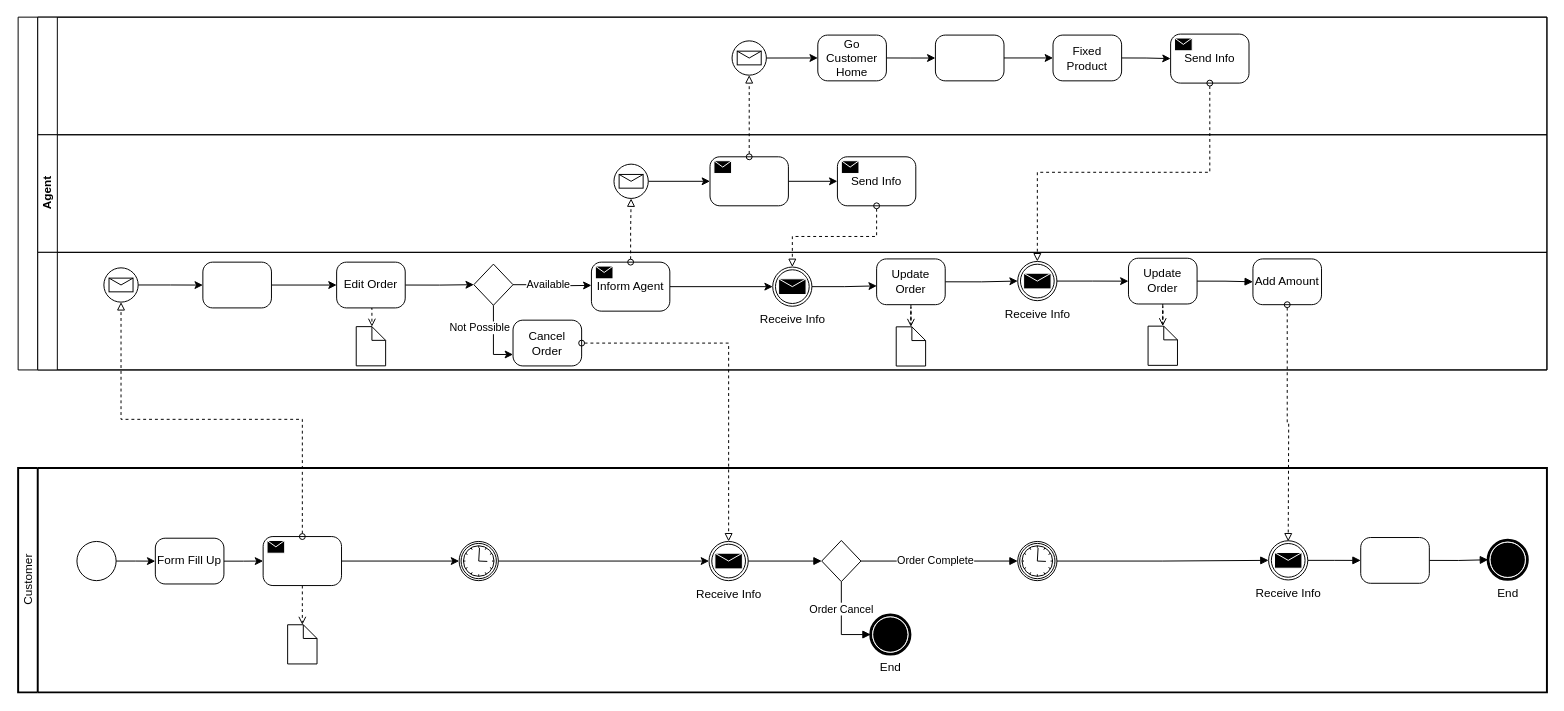
Some shapes in this 1564 by 711 pixel diagram are drawn without their labels. The shapes that lost their labels are listed below. From the top down, each one's box as (x1, y1, x2, y2) in pixels, then its label:
(37, 16, 1547, 135): Technician
(934, 34, 1004, 81): Check Product
(709, 156, 788, 206): Assign Technician
(17, 16, 1547, 370): Office
(202, 261, 271, 308): Call Customer
(37, 251, 1547, 370): Admin
(76, 540, 116, 581): Log In
(262, 536, 342, 586): Submit Order
(1360, 537, 1429, 583): Pay bill
